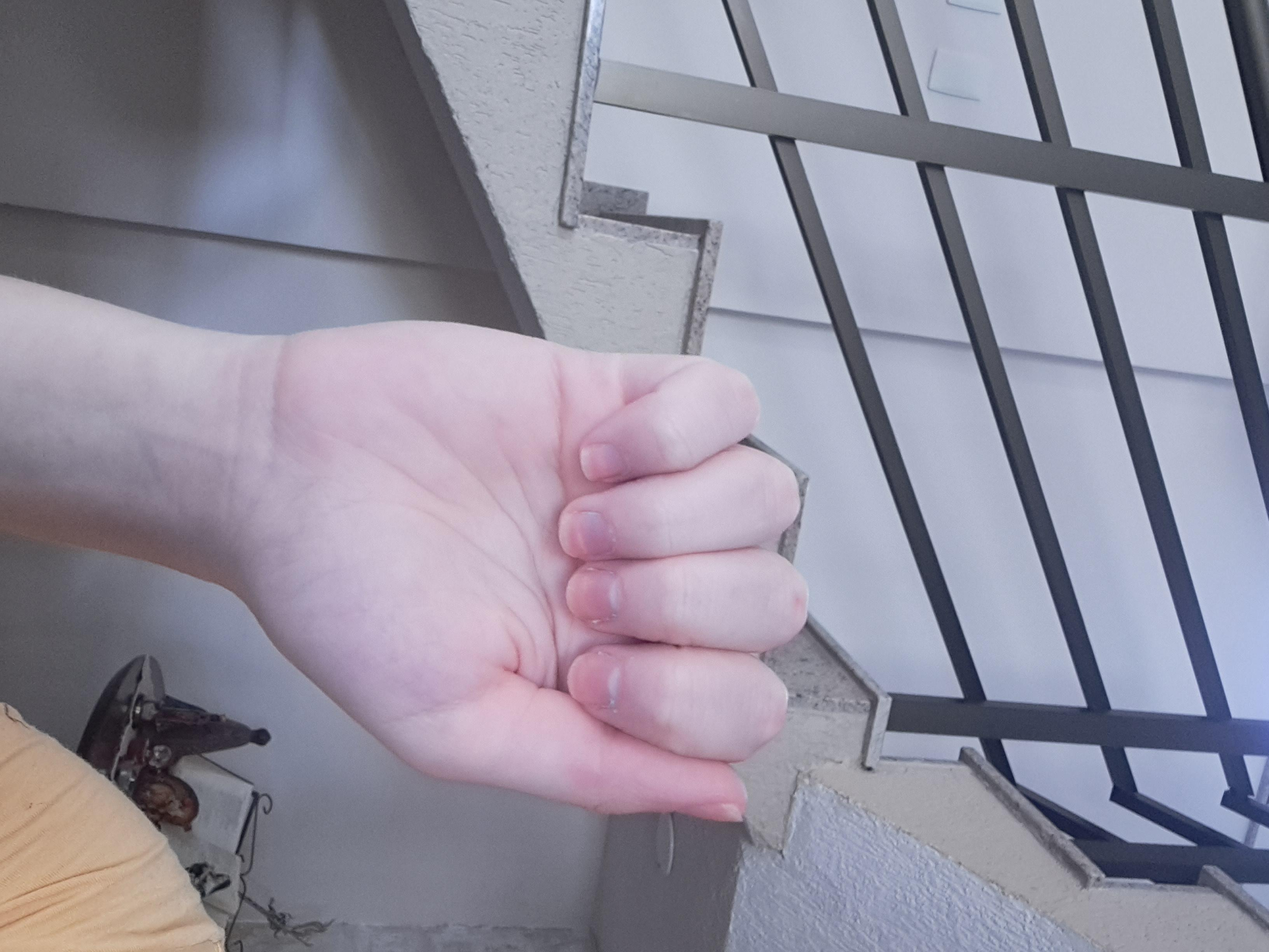A: (425, 327, 1120, 741)
